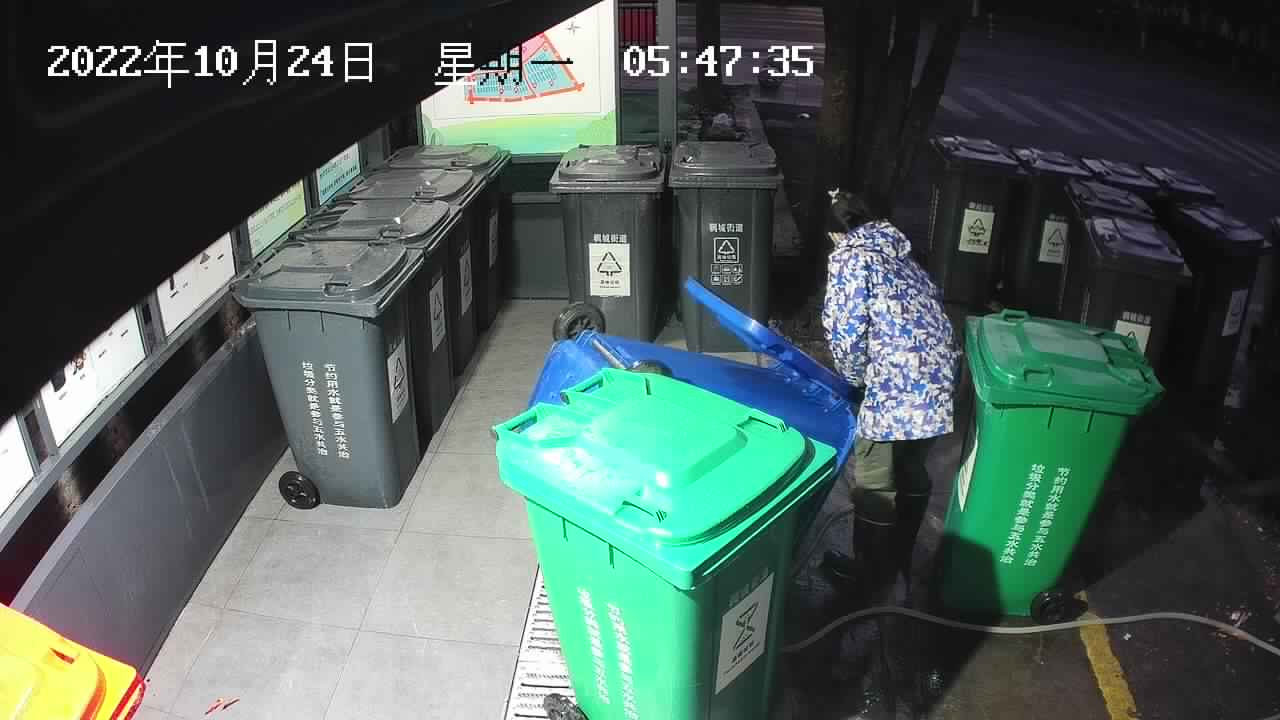worker: (818, 183, 960, 610)
